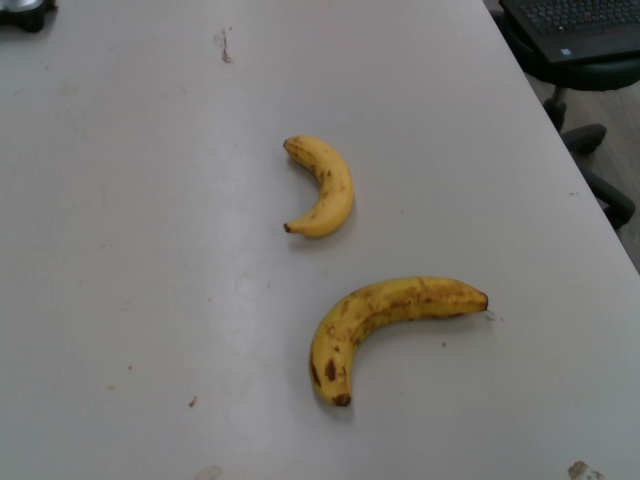banana: (305, 274, 489, 410), (279, 132, 355, 240)
